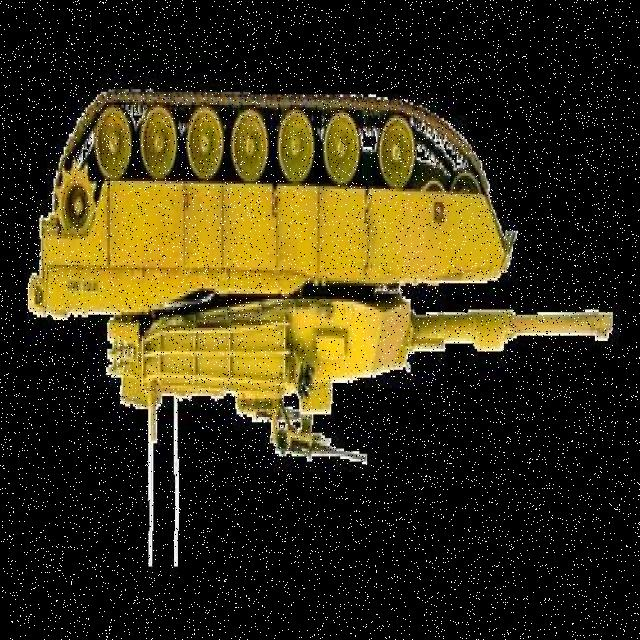MIL_MBT: (25, 54, 620, 531)
